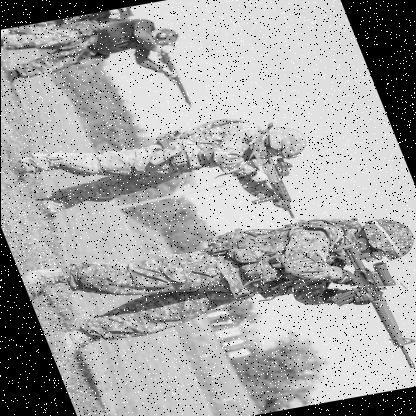rifle: (317, 238, 416, 383), (236, 146, 306, 224)
